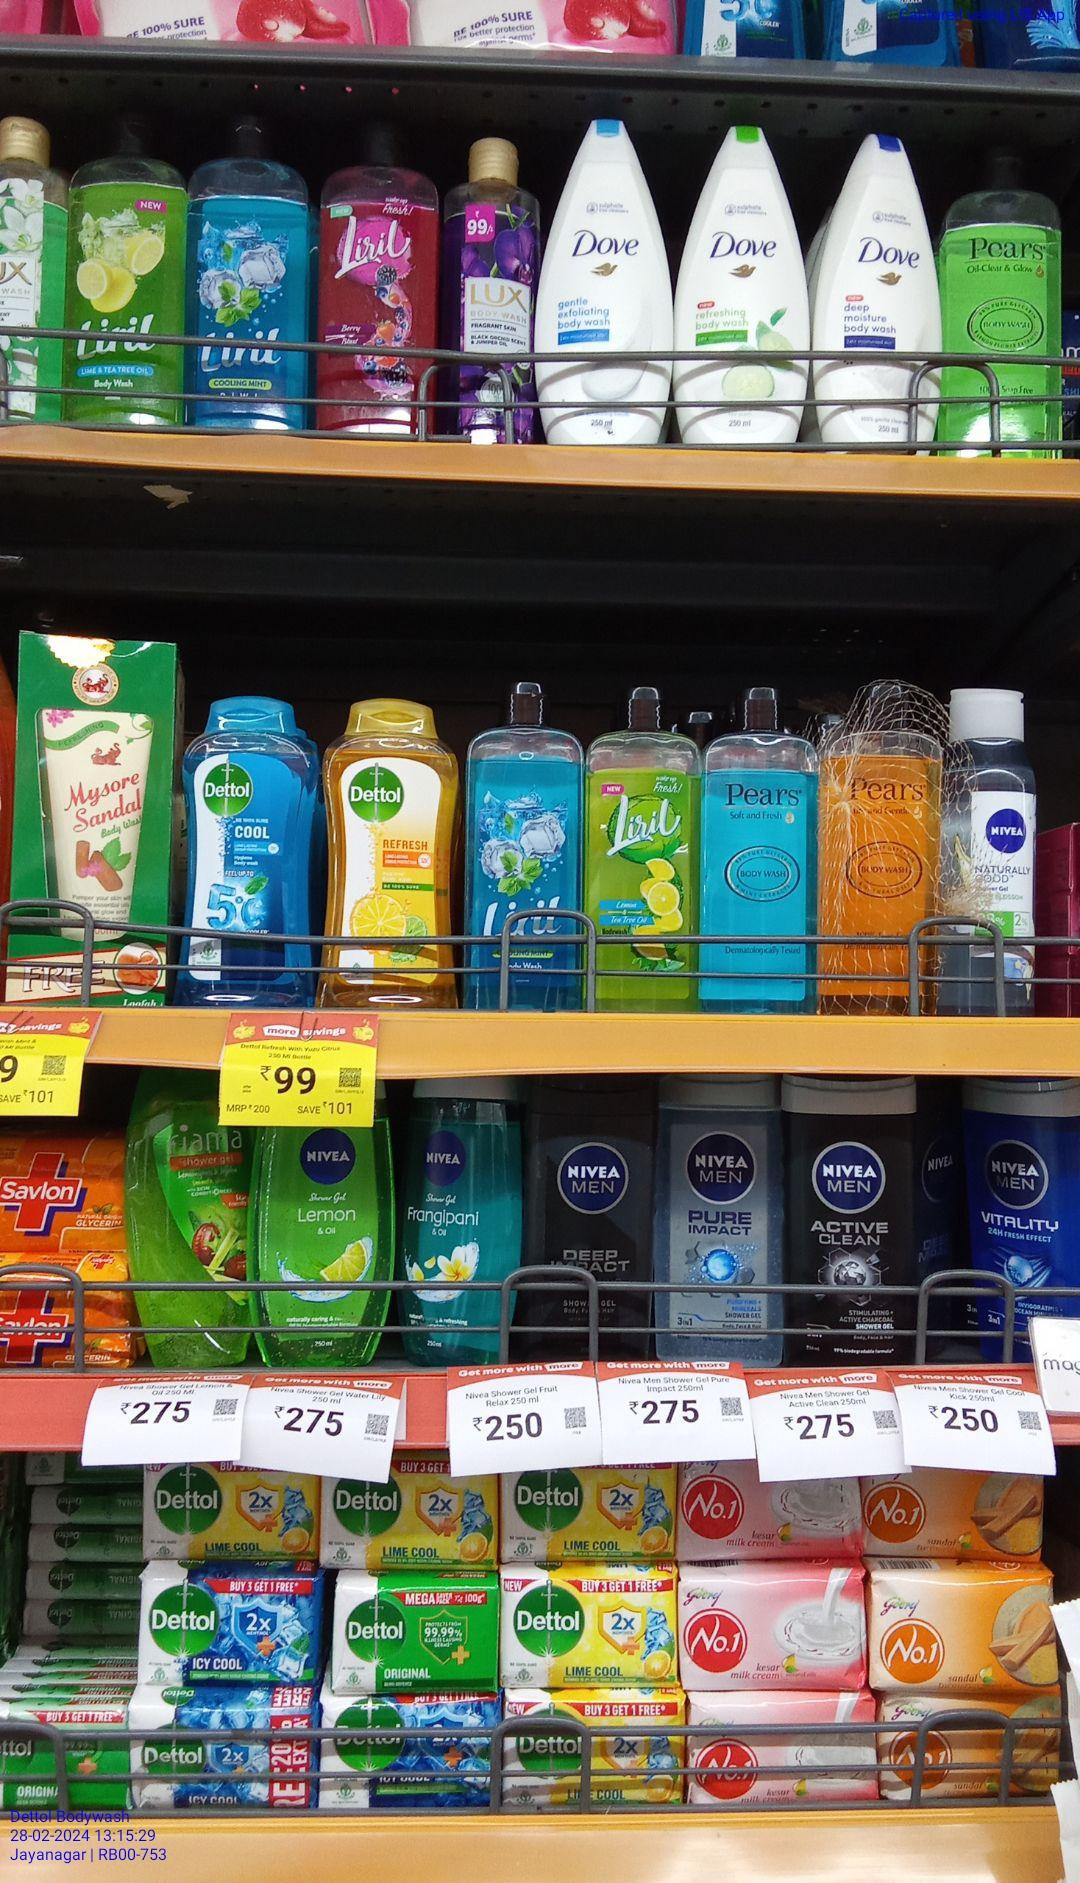Dettol_Bodywash_Cool: (185, 697, 314, 1010)
Dettol_Bodywash_Refresh: (327, 693, 455, 1014)
Dove_Deep_Moisture_Body_Wash_250ML: (816, 132, 936, 455)
Dove_Gentle_Exfoliating_Body_Wash_250ML: (539, 114, 667, 447)
Dove_Refreshing_Body_Wash_250ML: (682, 122, 808, 455)
Fiama_Shower_Gel_Lemongrass_and_Jojoba_250ML: (129, 1072, 248, 1370)
Liril_Cooling_Mint_Body_Wash_250ML: (463, 679, 585, 1017), (191, 111, 305, 433)
Liril_Lime_and_Tea_Tree_Oil_Body_Wash_250ML: (71, 113, 182, 433)
Lux_Black_Orchid_Scent_and_Juniper_Oil_Body_Wash_245ML: (445, 136, 538, 449)
Lux_Body_Wash_Skin_Detox_Freesia_Scent_and_Alove_Vera_245ML: (0, 103, 63, 428)
Nivea_Shower_Gel_Frangipani_and_Oil_250ML: (394, 1080, 511, 1373)
Nivea_Shower_Gel_Lemon_and_Oil_250ML: (256, 1112, 391, 1373)
Pears_Pure_Glycerin_and_Lemon_Flower_Extracts_Body_Wash_250ML: (940, 147, 1062, 462)
Pears_Pure_Glycerin_and_Mint_Extracts_Body_Wash_250ML: (709, 685, 817, 1019)
